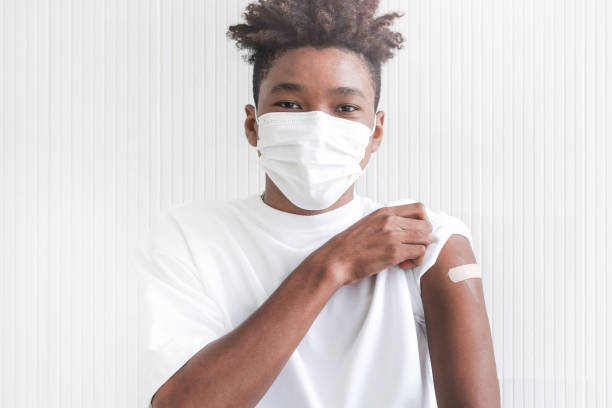with mask: (239, 22, 392, 216)
